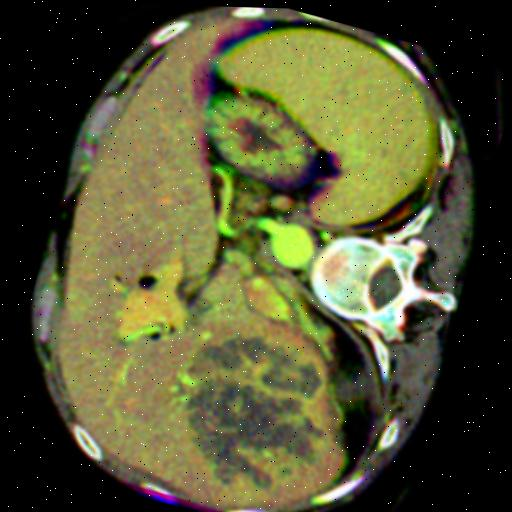Abscess: (186, 337, 323, 486)
